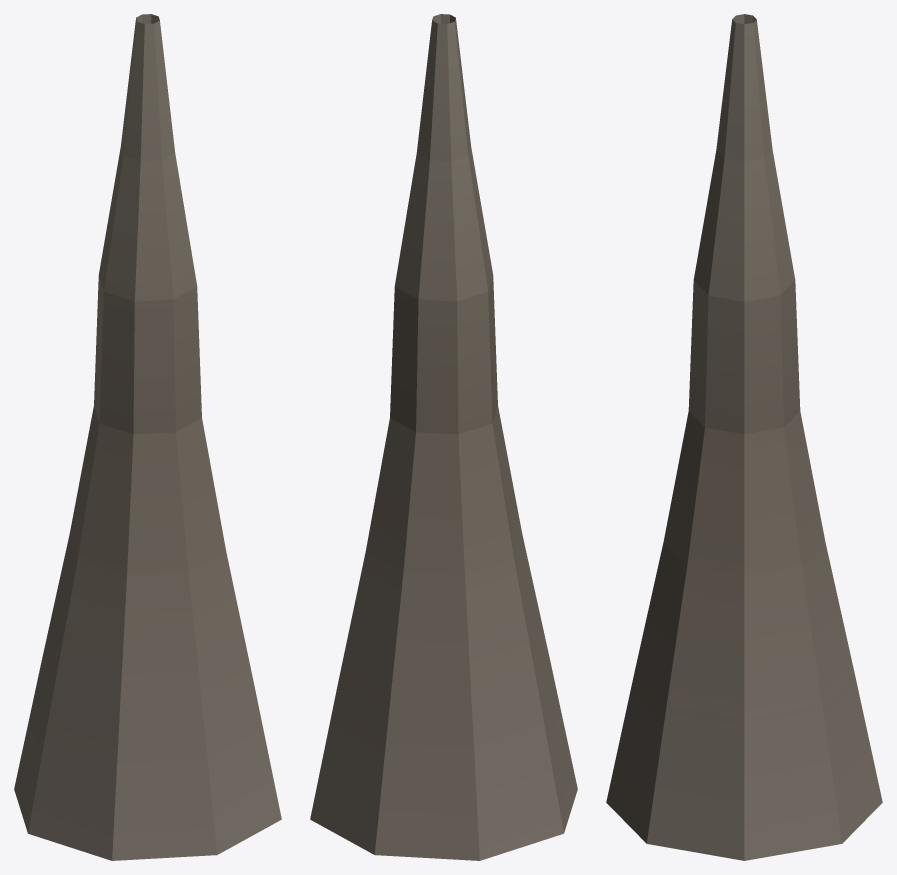
The model's file is stalagmite_recipe_v0.glb.
3 renders of one model, left to right at view 1: azimuth 30°, elevation 25°; view 2: azimuth 150°, elevation 25°; view 3: azimuth 270°, elevation 25°, orthographic.
Visible parts, largest first — view 1: world; view 2: world; view 3: world.
Boxes of the visible parts, left/top/right/bottom form: world: left=14, top=14, right=281, bottom=860; world: left=310, top=14, right=577, bottom=860; world: left=606, top=14, right=882, bottom=860.
Bounding box in the file's own units: 0.3199 × 1 × 0.3199.
